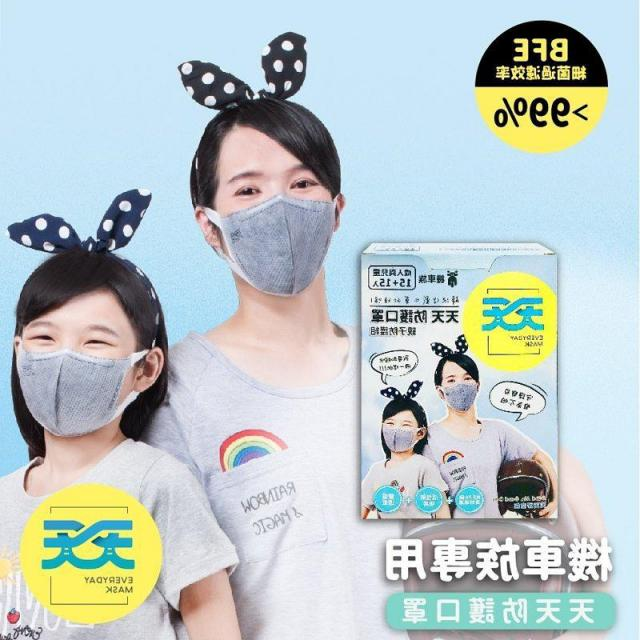face: (190, 79, 352, 308), (9, 243, 174, 444)
